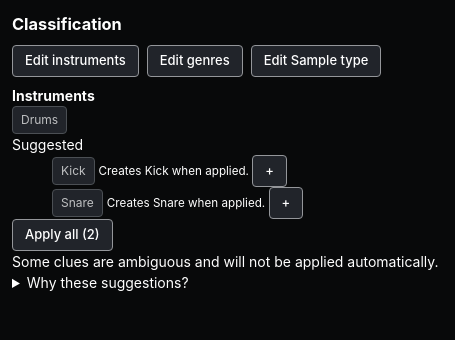
Test case: Apply all includes all paginated suggestions but excludes ambiguous and assigned entries
Click the button "Apply all (2)". click: coordinates (62, 235)
box: [12,219,113,251]
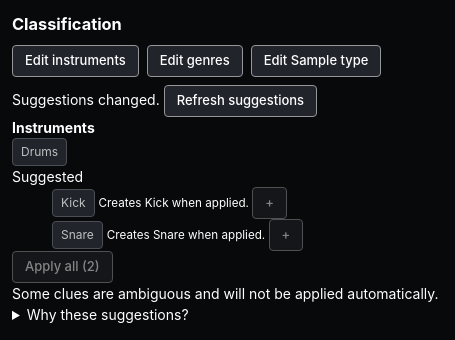
Now the message shows "Suggestions changed.", box [12,91,160,108]
Now the button named "Apply Kick" is disabled, box [252,187,287,219]
